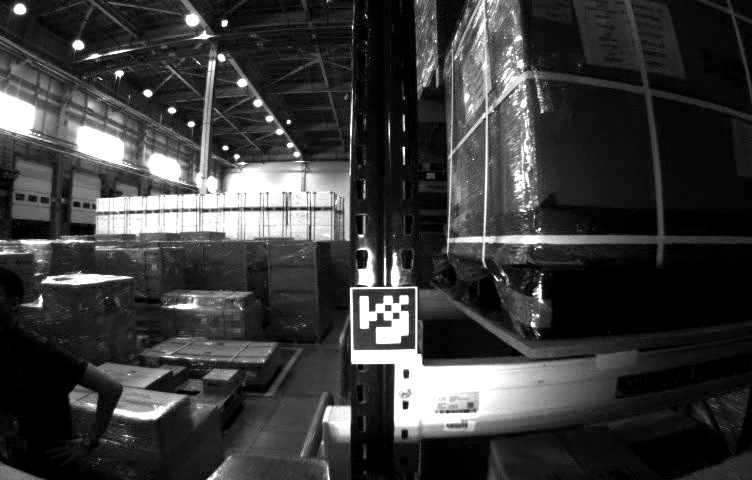True Barcode: (532, 1, 572, 22)
